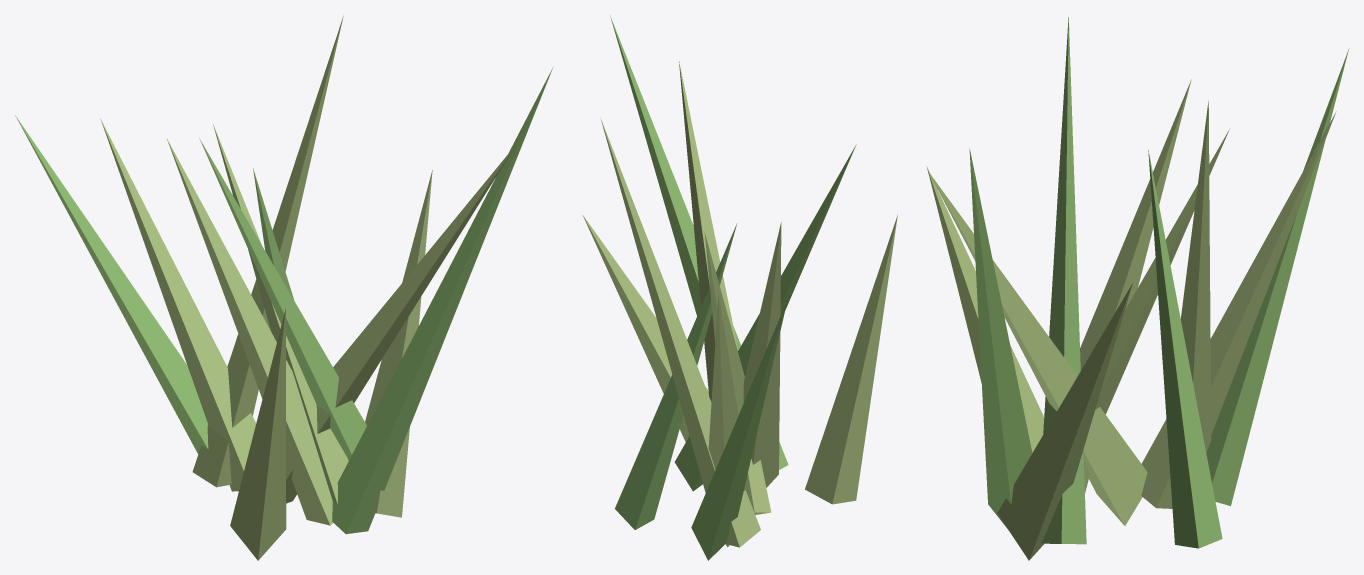
The model's file is grass_s1_01.glb.
3 renders of one model, left to right at view 1: azimuth 30°, elevation 25°; view 2: azimuth 150°, elevation 25°; view 3: azimuth 270°, elevation 25°, orthographic. The views are drawn at different scales.
Parts seen in each view (by area): view 1: part01, part00; view 2: part01, part00; view 3: part01, part00.
Part boxes in pixels (<box>): part01: <box>100,16,516,560</box>; part00: <box>15,68,552,534</box>; part01: <box>582,61,897,547</box>; part00: <box>610,15,856,560</box>; part01: <box>926,79,1336,560</box>; part00: <box>969,17,1349,548</box>.
Size of the model in its own units: 0.7677 by 0.8899 by 0.7086.
